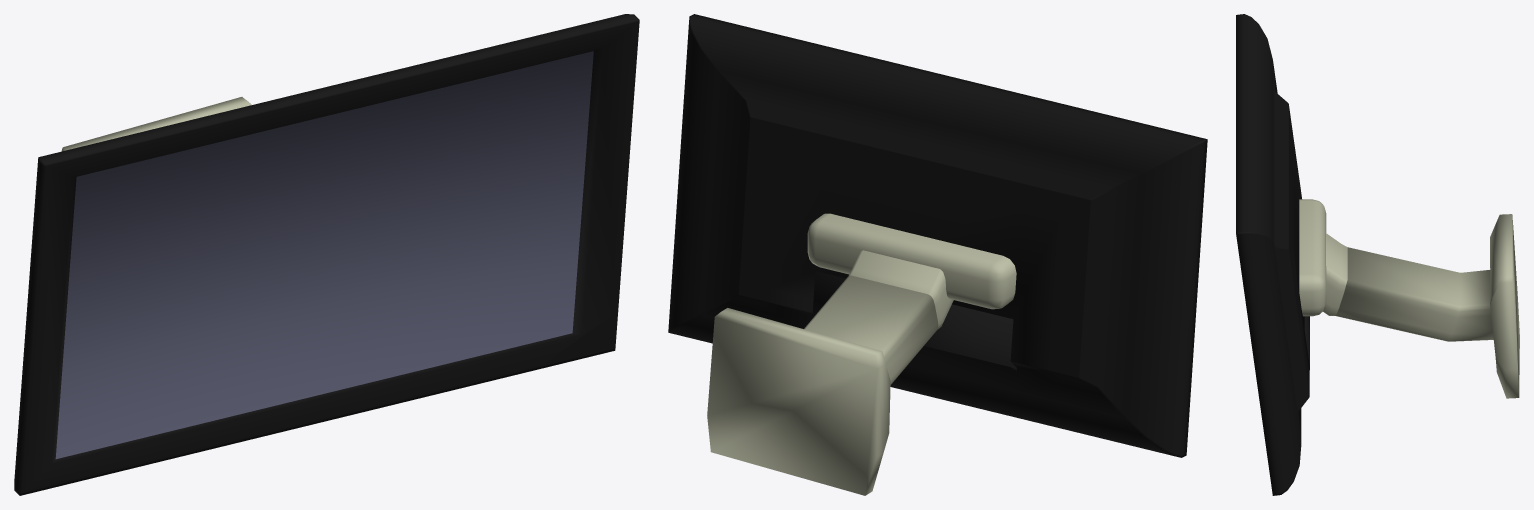
File: wiszacy_ekran.fbx
3 renders of one model, left to right at view 1: azimuth 30°, elevation 25°; view 2: azimuth 150°, elevation 25°; view 3: azimuth 270°, elevation 25°, orthographic. The views are drawn at different scales.
Parts seen in each view (by area): view 1: ekran, ramie; view 2: ekran, ramie, uchwyt; view 3: ekran, ramie, uchwyt.
Boxes of the visible parts, x1,y1,x2,y2 form: ekran: (14,14,639,495); ramie: (61,97,251,151); ekran: (668,14,1207,457); ramie: (707,275,938,495); uchwyt: (807,213,1016,329); ekran: (1236,14,1309,495); ramie: (1336,214,1519,398); uchwyt: (1299,199,1347,316).
Bounding box in the file's own units: 62.66 × 35.21 × 34.4.
